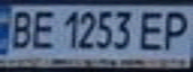1: (57, 8, 81, 51)
2: (78, 7, 100, 51)
3: (112, 7, 139, 52)
5: (93, 8, 118, 52)
B: (3, 7, 39, 51)
E: (136, 8, 172, 52), (27, 7, 60, 51)
P: (157, 8, 193, 52)
